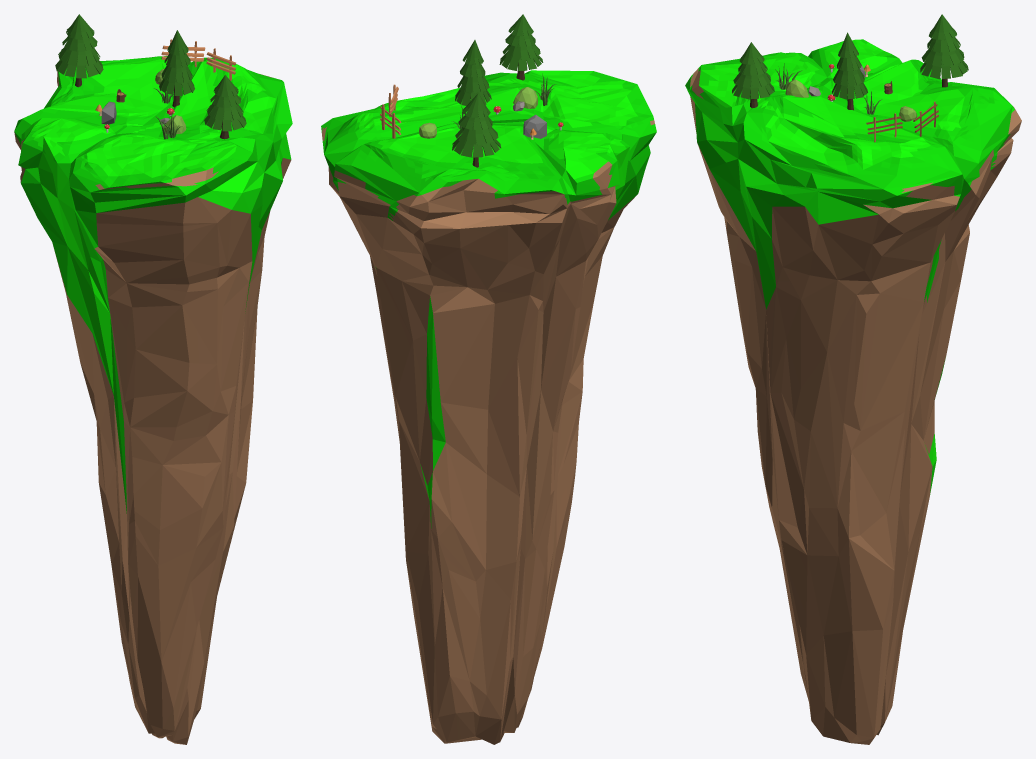
The model's file is Rock2.fbx.
3 views of the same model, side by side, from view 1: azimuth 30°, elevation 25°; view 2: azimuth 150°, elevation 25°; view 3: azimuth 270°, elevation 25° (orthographic).
Parts seen in each view (by area): view 1: rock2; view 2: rock2; view 3: rock2.
Boxes of the visible parts, <box> form: rock2: <box>14,14,292,744</box>; rock2: <box>321,14,656,744</box>; rock2: <box>685,14,1021,744</box>.
Size of the model in its own units: 329 by 787 by 341.
